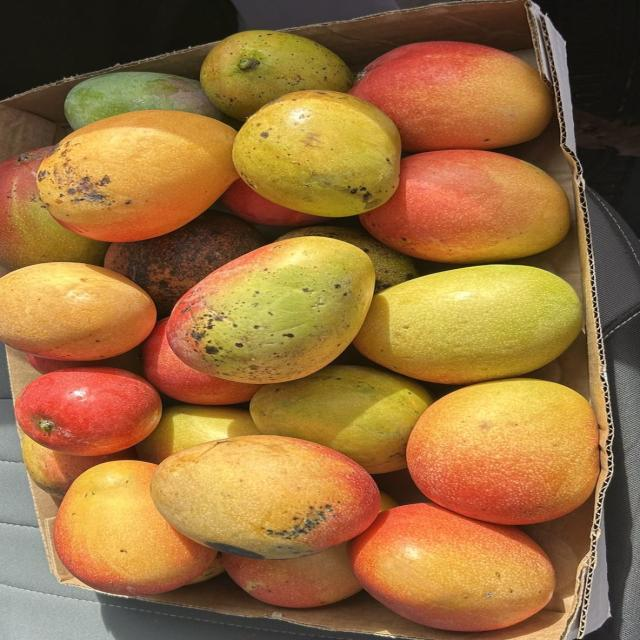mango: (167, 238, 374, 383), (152, 435, 379, 559), (407, 379, 599, 524), (354, 265, 582, 384), (349, 504, 554, 632), (38, 110, 237, 241), (360, 150, 570, 263), (350, 41, 553, 152), (54, 461, 215, 595), (234, 91, 400, 217), (251, 366, 433, 473), (104, 212, 265, 317), (0, 263, 155, 360), (200, 30, 353, 120), (0, 147, 107, 270), (15, 367, 161, 456), (142, 319, 259, 405), (279, 226, 419, 292), (65, 72, 226, 129), (221, 543, 361, 607), (136, 405, 259, 464), (20, 436, 137, 498), (220, 180, 327, 226), (27, 348, 142, 375), (187, 554, 225, 584), (380, 491, 398, 511)
